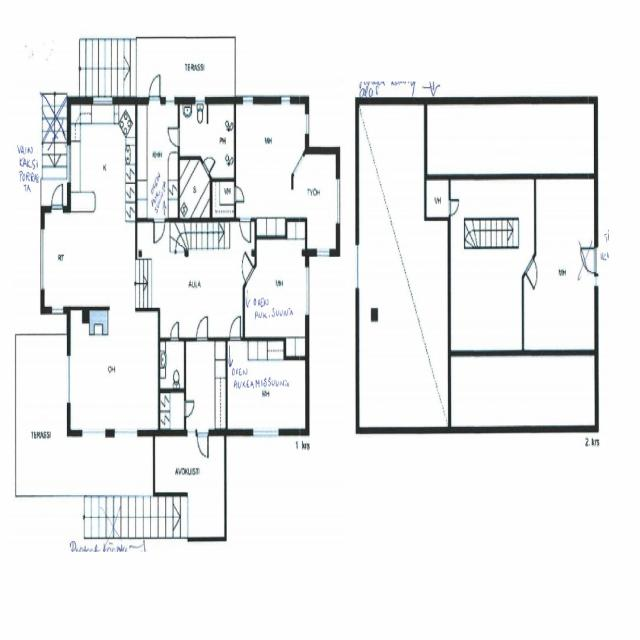door: (524, 256, 542, 289), (245, 266, 262, 300), (148, 76, 160, 104), (202, 151, 215, 175), (52, 184, 63, 212), (198, 429, 208, 457), (230, 338, 241, 362), (240, 218, 250, 243), (154, 197, 164, 222), (197, 317, 207, 341), (168, 128, 180, 146), (234, 186, 244, 202), (448, 199, 458, 215), (171, 323, 178, 341), (184, 402, 193, 416)
